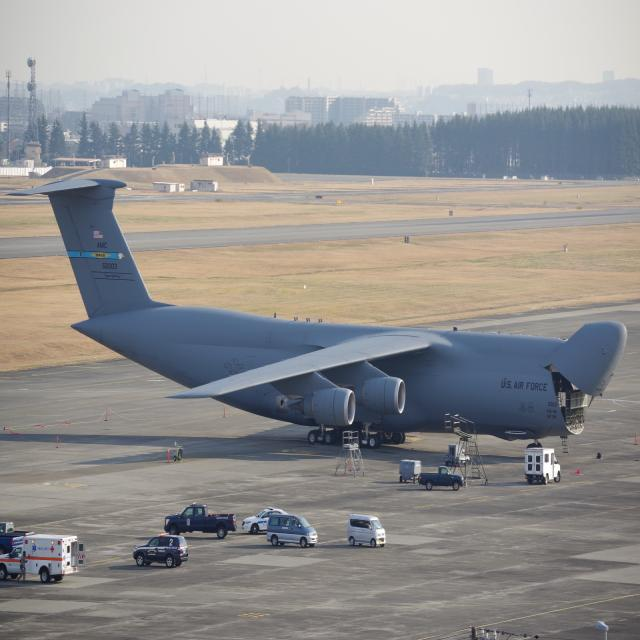MIL_Plane: (5, 132, 628, 405)
